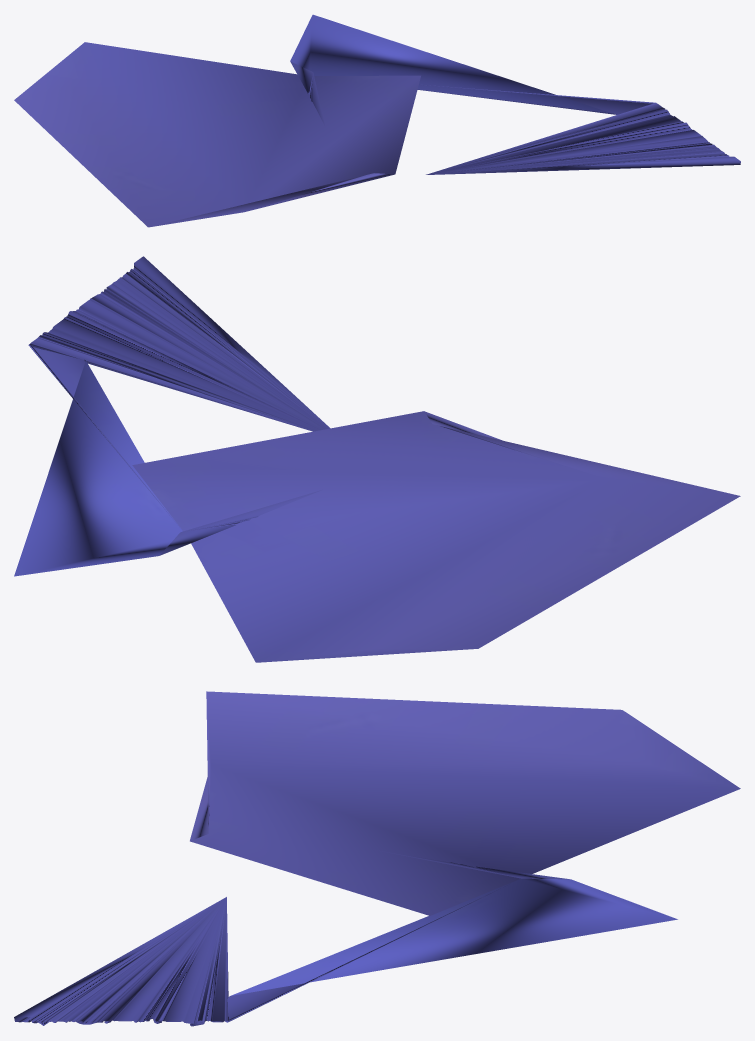
Rendered from model.progressive.glb.
3 views of the same model, one above another, from view 1: azimuth 30°, elevation 25°; view 2: azimuth 150°, elevation 25°; view 3: azimuth 270°, elevation 25° (orthographic). The views are drawn at different scales.
Visible parts, largest first — view 1: mesh_input; view 2: mesh_input; view 3: mesh_input.
Part boxes in pixels (x1=…): mesh_input: x1=14, y1=14, x2=740, y2=227; mesh_input: x1=14, y1=256, x2=740, y2=662; mesh_input: x1=14, y1=691, x2=740, y2=1026.
Size of the model in its own units: 1.32 by 0.0562 by 1.27.
Materials: 1 (1 with a texture image).
